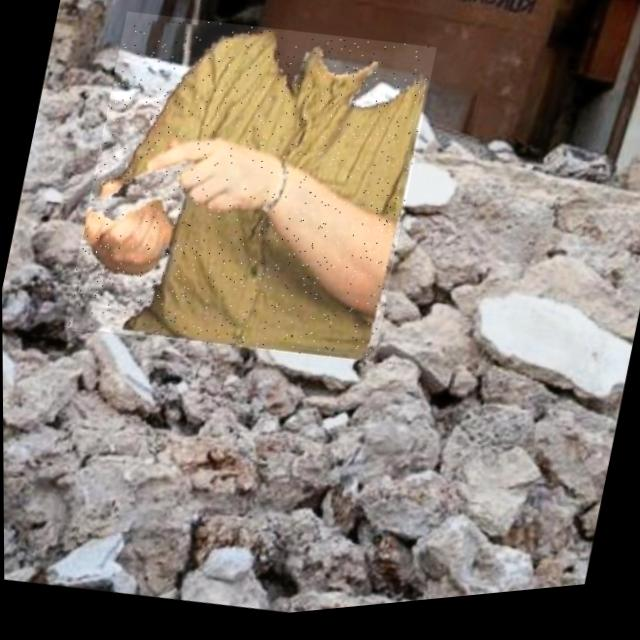Person in Rubble: (61, 0, 438, 393)
